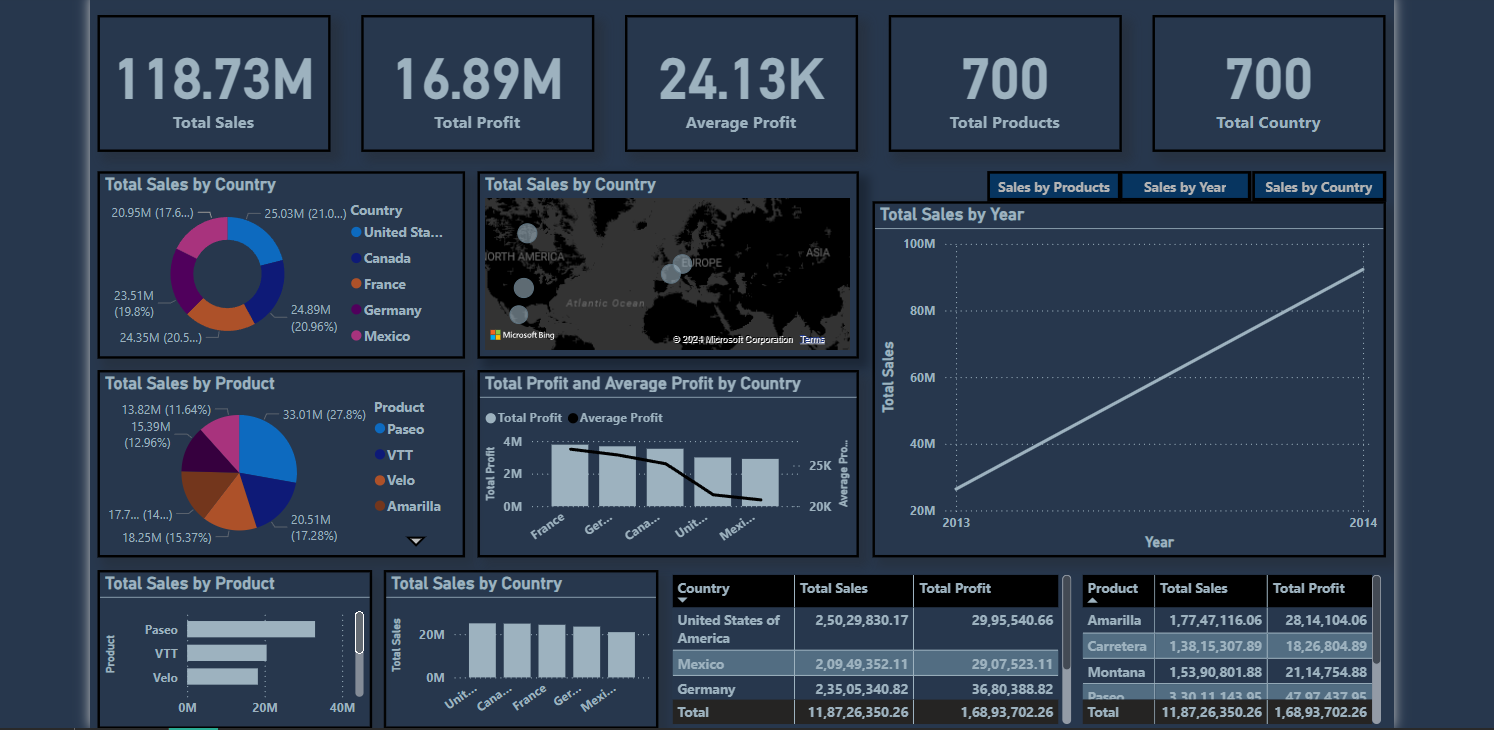

This screenshot's page, from the dashboard's own definition file:
{"tool":"powerbi","page":{"name":"Page 1","canvas":[1280,720],"ordinal":0},"visuals":[{"type":"card","fields":{"Values":["Sum(financials.Profit)"]},"box":[265.8,19.2,229.2,134.5],"z":0,"group":"g1"},{"type":"lineChart","fields":{"Y":["Sum(financials. Sales)"],"Category":["financials.Date.Variation.Date Hierarchy.Year","financials.Date.Variation.Date Hierarchy.Quarter"]},"box":[768.1,202.5,504.3,349.7],"z":0},{"type":"card","fields":{"Values":["Avg(financials.Profit)"]},"box":[524.8,19.2,229.2,134.5],"z":1000,"group":"g1"},{"type":"columnChart","fields":{"Category":["financials.Country"],"Y":["Sum(financials. Sales)"]},"box":[288.3,564.4,269.9,155.8],"z":1000},{"type":"card","fields":{"Values":["CountNonNull(financials.Country)"]},"box":[1042.6,19.2,229.2,134.5],"z":2000,"group":"g1"},{"type":"barChart","fields":{"Category":["financials.Product"],"Y":["Sum(financials. Sales)"]},"box":[7.4,564.4,269.9,155.8],"z":2000},{"type":"card","fields":{"Values":["CountNonNull(financials.Product)"]},"box":[783.7,19.2,229.2,134.5],"z":3000,"group":"g1"},{"type":"pieChart","fields":{"Category":["financials.Product"],"Y":["Sum(financials. Sales)"]},"box":[7.4,368.1,360.7,184.1],"z":3000},{"type":"donutChart","fields":{"Category":["financials.Country"],"Y":["Sum(financials. Sales)"]},"box":[7.4,173,360.7,184.1],"z":4000},{"type":"map","fields":{"Size":["Sum(financials. Sales)"],"Category":["financials.Country"]},"box":[380.4,173,374.2,184.1],"z":5000},{"type":"card","fields":{"Values":["Sum(financials. Sales)"]},"box":[6.9,19.2,229.2,134.5],"z":6000,"group":"g1"},{"type":"lineClusteredColumnComboChart","fields":{"Category":["financials.Country"],"Y":["Sum(financials.Profit)"],"Y2":["Avg(financials.Profit)"]},"box":[380.4,368.1,374.2,184.1],"z":6000},{"type":"group","id":"g1","title":"Group 1","box":[6.9,19.2,1265.2,134.5],"z":7000},{"type":"tableEx","fields":{"Values":["financials.Country","Sum(financials. Sales)","Sum(financials.Profit)"]},"box":[565.6,564.4,402.5,155.8],"z":8000},{"type":"tableEx","fields":{"Values":["financials.Product","Sum(financials. Sales)","Sum(financials.Profit)"]},"box":[968.1,564.4,304.3,155.8],"z":10000},{"type":"actionButton","box":[881.3,172.5,131.6,29.8],"z":11000},{"type":"actionButton","box":[1011.6,172.5,129.1,29.8],"z":12000},{"type":"actionButton","box":[1140.7,172.5,131.6,29.8],"z":14000}]}

Visuals, with their boxes on the page's 1280x720 design canvas (x1, y1, x2, y2). These are canvas units, not pixel positions in the 1494x730 screenshot, which may show the page scaled, cropped or inside an application window:
card - Sum(financials.Profit): {"x1": 266, "y1": 19, "x2": 495, "y2": 154}
lineChart - Sum(financials. Sales) x financials.Date.Variation.Date Hierarchy.Year: {"x1": 768, "y1": 202, "x2": 1272, "y2": 552}
card - Avg(financials.Profit): {"x1": 525, "y1": 19, "x2": 754, "y2": 154}
columnChart - financials.Country x Sum(financials. Sales): {"x1": 288, "y1": 564, "x2": 558, "y2": 720}
card - CountNonNull(financials.Country): {"x1": 1043, "y1": 19, "x2": 1272, "y2": 154}
barChart - financials.Product x Sum(financials. Sales): {"x1": 7, "y1": 564, "x2": 277, "y2": 720}
card - CountNonNull(financials.Product): {"x1": 784, "y1": 19, "x2": 1013, "y2": 154}
pieChart - financials.Product x Sum(financials. Sales): {"x1": 7, "y1": 368, "x2": 368, "y2": 552}
donutChart - financials.Country x Sum(financials. Sales): {"x1": 7, "y1": 173, "x2": 368, "y2": 357}
map - Sum(financials. Sales) x financials.Country: {"x1": 380, "y1": 173, "x2": 755, "y2": 357}
card - Sum(financials. Sales): {"x1": 7, "y1": 19, "x2": 236, "y2": 154}
lineClusteredColumnComboChart - financials.Country x Sum(financials.Profit): {"x1": 380, "y1": 368, "x2": 755, "y2": 552}
"Group 1" group: {"x1": 7, "y1": 19, "x2": 1272, "y2": 154}
tableEx - financials.Country x Sum(financials. Sales): {"x1": 566, "y1": 564, "x2": 968, "y2": 720}
tableEx - financials.Product x Sum(financials. Sales): {"x1": 968, "y1": 564, "x2": 1272, "y2": 720}
actionButton: {"x1": 881, "y1": 172, "x2": 1013, "y2": 202}
actionButton: {"x1": 1012, "y1": 172, "x2": 1141, "y2": 202}
actionButton: {"x1": 1141, "y1": 172, "x2": 1272, "y2": 202}
